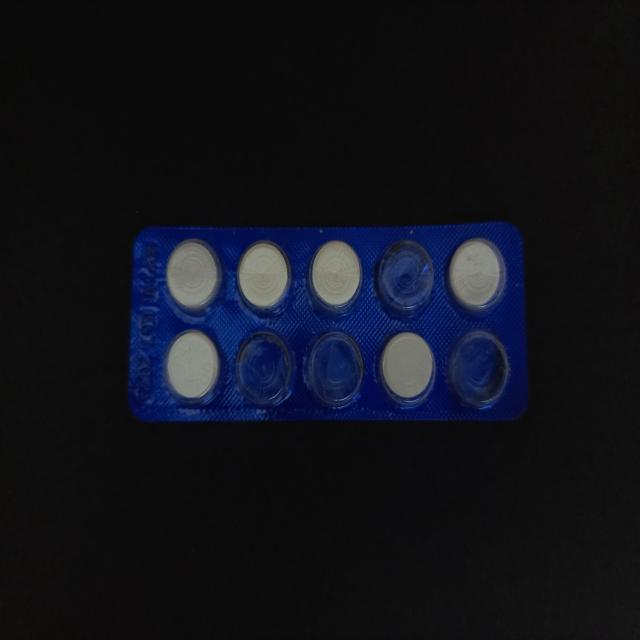defect: (446, 326, 512, 412), (232, 328, 298, 413), (372, 236, 437, 321), (302, 327, 366, 413)
